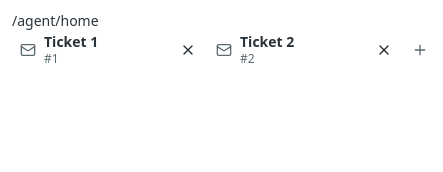
Test: WorkTabs › ativar uma aba navega para a rota dela
This screenshot has width=443, height=172.
Click the button "Ticket 2 #2". click: (290, 50)
box: top-left (208, 30), bottom-right (372, 70)
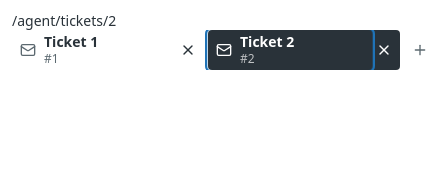
Expected: the text with test id "loc" reads "/agent/tickets/2", top-left (12, 11), bottom-right (116, 30)
